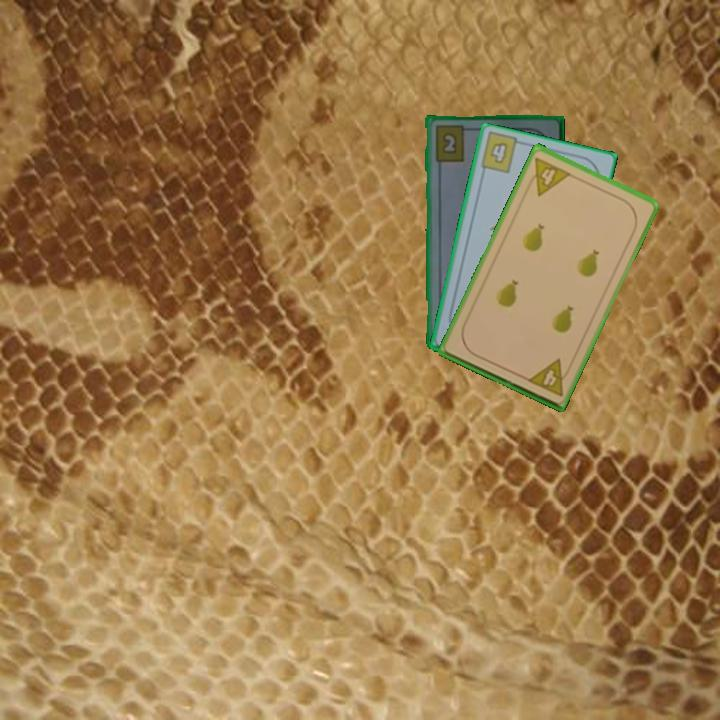2b: (432, 122, 473, 164)
4b: (486, 138, 510, 166)
4p: (522, 153, 574, 198), (523, 355, 574, 399)
